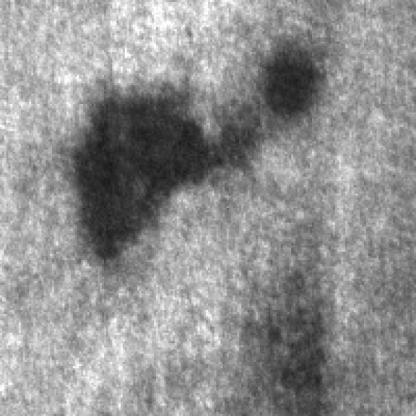patches: (73, 86, 239, 264), (272, 274, 333, 412), (264, 35, 335, 116)
